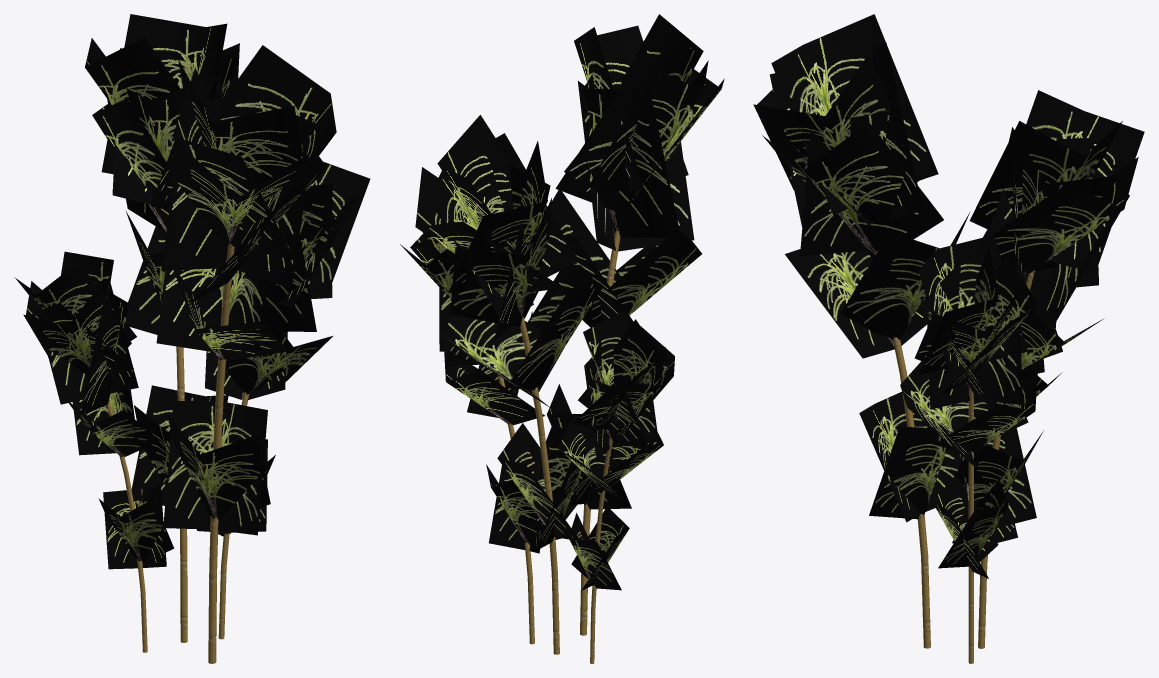
The model's file is young-bamboo.glb.
3 renders of one model, left to right at view 1: azimuth 30°, elevation 25°; view 2: azimuth 150°, elevation 25°; view 3: azimuth 270°, elevation 25°, orthographic. The views are drawn at different scales.
Parts seen in each view (by area): view 1: $ColladaAutoName$_0; view 2: $ColladaAutoName$_0; view 3: $ColladaAutoName$_0.
Boxes of the visible parts, x1,y1,x2,y2 form: $ColladaAutoName$_0: (15, 14, 370, 663); $ColladaAutoName$_0: (400, 14, 724, 663); $ColladaAutoName$_0: (753, 14, 1144, 663).
Size of the model in its own units: 1.48 by 2.9 by 1.7.
2 materials, 2 textured.
